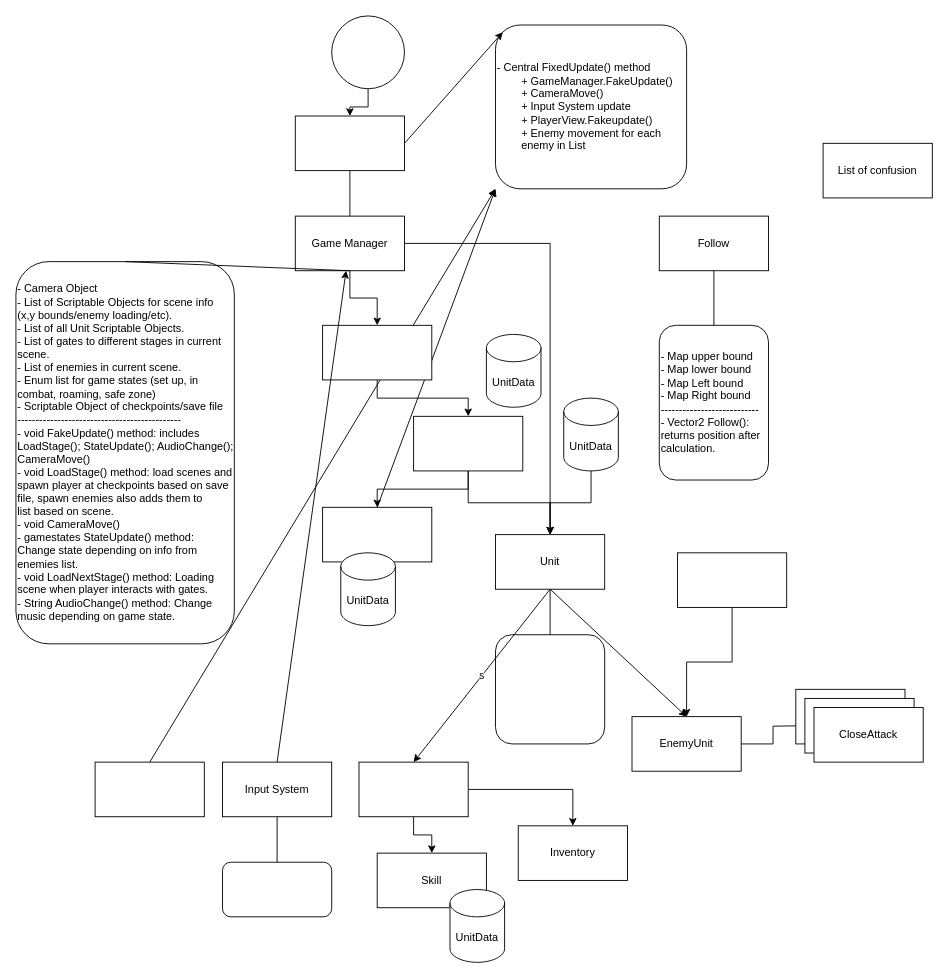
This 948x978 diagram has some shape labels left out. Here are the shapes that lost their labels. From the top down, the centre of each, then its label:
At [349,143]: "Game view (monobehaviour)".
At [377,352]: "Map Manager".
At [468,443]: "MapSection".
At [377,534]: "Obstacle".
At [732,579]: "AI".
At [550,689]: "- UnitID - Health ----------------------- - takedamage()".
At [149,789]: "Player View".
At [413,789]: "PlayerUnit".
At [277,889]: "- FakeUpdate():".
